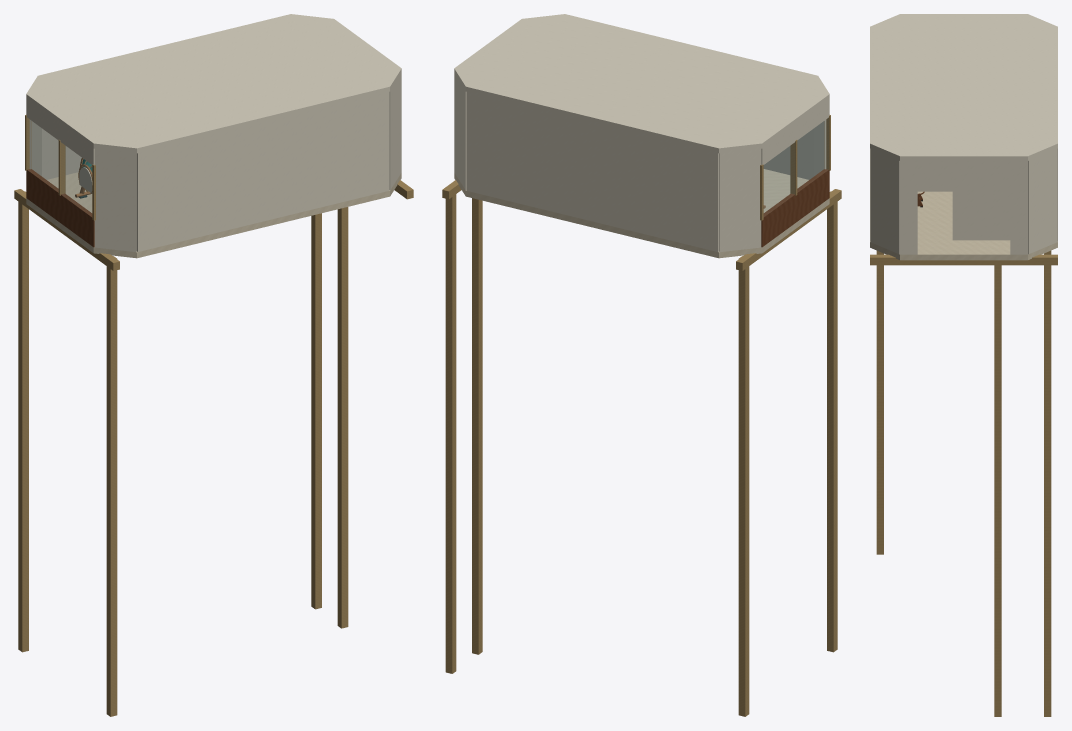
The model's file is D04_PORT_CENTRAL_HOME_953_r001.glb.
3 views of the same model, side by side, from view 1: azimuth 30°, elevation 25°; view 2: azimuth 150°, elevation 25°; view 3: azimuth 270°, elevation 25° (orthographic). The views are drawn at different scales.
Parts seen in each view (by area): view 1: PC953_D04H952_Roof, PC953_D04H952_Shell_3, PC953_D04H952_Pier_10, PC953_D04H952_Pier_12, PC953_D04H952_Pier_9, PC953_D04H952_Pier_11, PC953_D04H952_Shell_2, PC953_D04H952_Floor, PC953_D04H952_GardenGlass, PC953_D04H952_GardenDado, PC953_D04H952_Shell_4, PC953_D04H952_GardenHead (+3 smaller); view 2: PC953_D04H952_Roof, PC953_D04H952_Shell_7, PC953_D04H952_Pier_11, PC953_D04H952_Pier_9, PC953_D04H952_Pier_12, PC953_D04H952_Pier_10, PC953_D04H952_Shell_0, PC953_D04H952_Floor, PC953_D04H952_GardenGlass, PC953_D04H952_GardenDado, PC953_D04H952_Shell_6, PC953_D04H952_GardenHead (+3 smaller); view 3: PC953_D04H952_Roof, PC953_D04H952_Floor, PC953_D04H952_Pier_11, PC953_D04H952_Pier_12, PC953_D04H952_EntryHeader, PC953_D04H952_BathDogleg, PC953_D04H952_Shell_4, PC953_D04H952_Shell_6, PC953_D04H952_Pier_10, PC953_D04H952_EntryWall_0, PC953_D04H952_EntryWall_1, PC953_D04H952_Long_-46.349999999999994.
Part boxes in pixels (x1,y1,x2,y2): PC953_D04H952_Roof: [26, 14, 401, 153]; PC953_D04H952_Shell_3: [136, 92, 389, 251]; PC953_D04H952_Pier_10: [106, 256, 117, 716]; PC953_D04H952_Pier_12: [337, 207, 348, 628]; PC953_D04H952_Pier_9: [18, 191, 28, 652]; PC953_D04H952_Pier_11: [311, 213, 321, 609]; PC953_D04H952_Shell_2: [94, 148, 136, 251]; PC953_D04H952_Floor: [26, 172, 401, 258]; PC953_D04H952_GardenGlass: [28, 121, 91, 215]; PC953_D04H952_GardenDado: [26, 169, 94, 247]; PC953_D04H952_Shell_4: [389, 74, 401, 189]; PC953_D04H952_GardenHead: [26, 99, 94, 164]; PC953_D04H952_Roof: [454, 14, 829, 153]; PC953_D04H952_Shell_7: [466, 92, 719, 251]; PC953_D04H952_Pier_11: [445, 186, 456, 673]; PC953_D04H952_Pier_9: [738, 256, 749, 716]; PC953_D04H952_Pier_12: [472, 198, 482, 654]; PC953_D04H952_Pier_10: [827, 191, 837, 652]; PC953_D04H952_Shell_0: [719, 148, 761, 251]; PC953_D04H952_Floor: [454, 169, 829, 258]; PC953_D04H952_GardenGlass: [764, 121, 826, 213]; PC953_D04H952_GardenDado: [761, 169, 829, 247]; PC953_D04H952_Shell_6: [454, 74, 466, 189]; PC953_D04H952_GardenHead: [761, 99, 829, 164]; PC953_D04H952_Roof: [870, 14, 1057, 160]; PC953_D04H952_Floor: [870, 191, 1057, 260]; PC953_D04H952_Pier_11: [1044, 254, 1051, 716]; PC953_D04H952_Pier_12: [994, 260, 1001, 716]; PC953_D04H952_EntryHeader: [917, 161, 1010, 191]; PC953_D04H952_BathDogleg: [952, 191, 1010, 240]; PC953_D04H952_Shell_4: [870, 149, 899, 254]; PC953_D04H952_Shell_6: [1028, 149, 1057, 254]; PC953_D04H952_Pier_10: [876, 250, 883, 554]; PC953_D04H952_EntryWall_0: [1010, 161, 1027, 254]; PC953_D04H952_EntryWall_1: [900, 161, 917, 254]; PC953_D04H952_Long_-46.349999999999994: [870, 254, 1057, 265].
Bounding box in the file's own units: 12.92 × 23.78 × 7.2.
36 materials, 21 textured.
